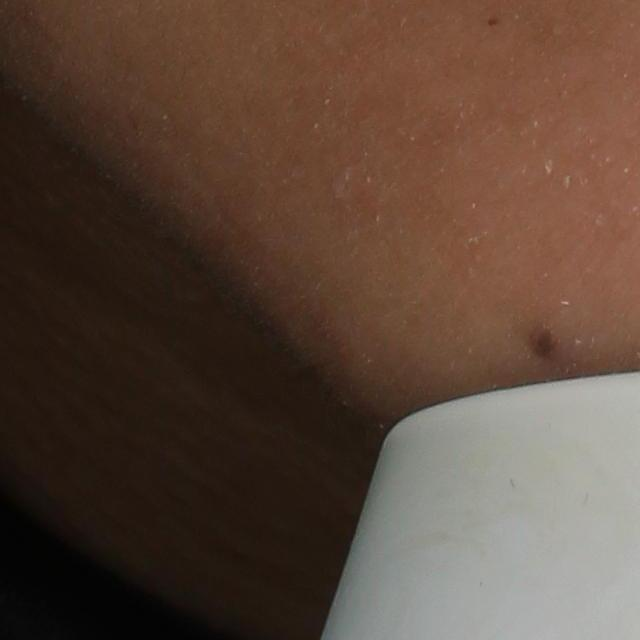nevus: (526, 320, 564, 362)
